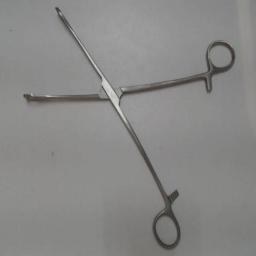Sponge Forceps: (18, 4, 238, 252)
